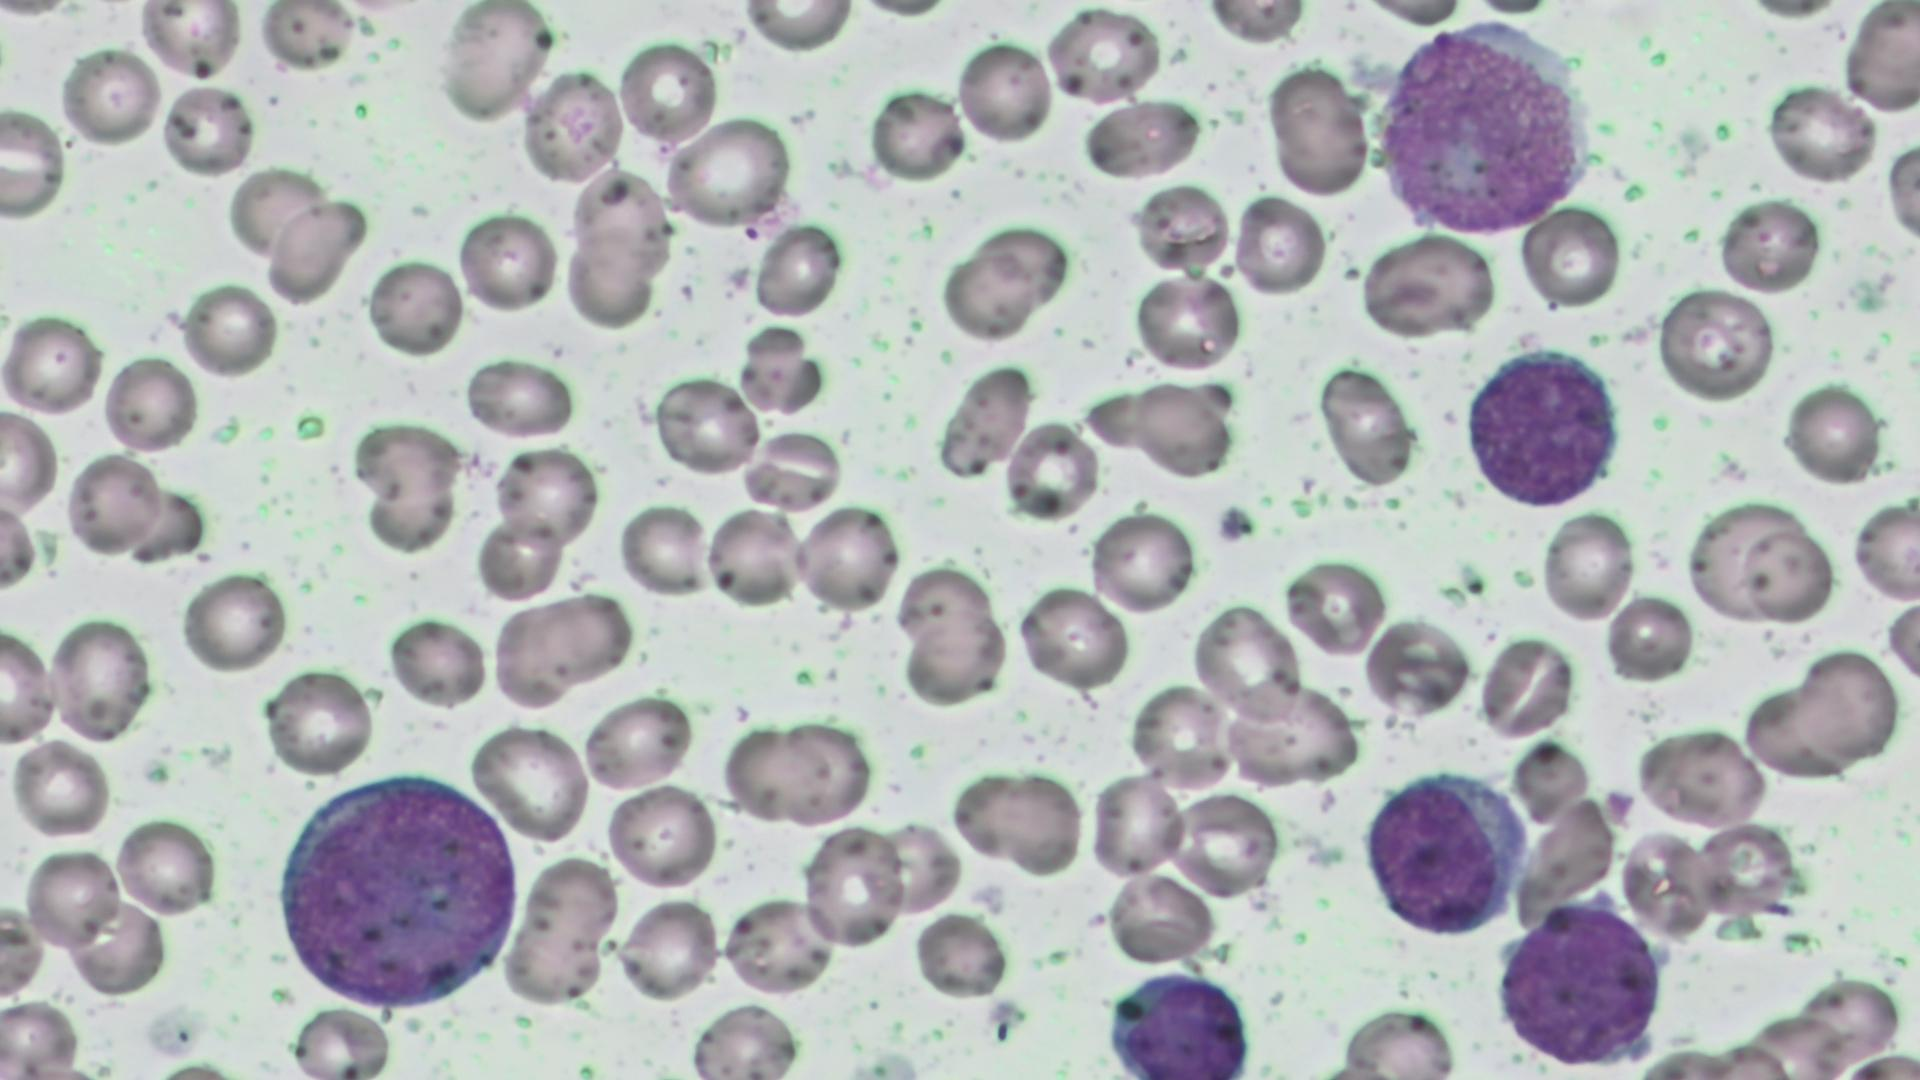Platelets: (1346, 54, 1395, 92), (210, 415, 243, 443)
RBC: (1100, 964, 1255, 1080), (1683, 496, 1815, 624), (469, 715, 592, 848), (733, 715, 874, 829), (1358, 228, 1498, 340), (1222, 680, 1358, 790), (1635, 723, 1770, 832), (665, 113, 790, 227), (47, 612, 153, 746), (436, 0, 551, 123), (1192, 597, 1302, 724), (1658, 287, 1774, 406), (1267, 65, 1370, 198), (800, 825, 903, 952), (604, 778, 719, 891), (498, 593, 637, 687), (520, 852, 622, 975), (521, 66, 624, 189), (1126, 678, 1236, 793), (938, 357, 1036, 483), (1015, 582, 1127, 691), (615, 34, 720, 150), (1317, 364, 1416, 487), (1797, 644, 1900, 761), (1044, 4, 1162, 107), (262, 666, 372, 775), (615, 893, 723, 1004), (793, 502, 899, 615), (1516, 200, 1623, 313), (723, 891, 837, 996), (1764, 80, 1875, 186), (0, 309, 105, 419), (1088, 508, 1196, 615), (1076, 94, 1204, 183), (493, 443, 600, 550), (1782, 378, 1887, 487), (1130, 270, 1240, 375), (651, 372, 762, 475), (1539, 508, 1638, 622), (1284, 553, 1389, 661), (178, 570, 286, 674), (4, 735, 113, 837), (580, 692, 696, 789), (1172, 791, 1279, 895), (264, 196, 363, 307), (1476, 632, 1575, 742), (955, 36, 1054, 146), (1364, 613, 1466, 719), (700, 502, 802, 609), (58, 44, 160, 150), (66, 891, 166, 998), (1106, 869, 1216, 967), (61, 450, 162, 554), (456, 208, 556, 314), (113, 814, 214, 919), (1087, 771, 1184, 880), (1716, 196, 1821, 295), (460, 353, 578, 442), (1130, 177, 1233, 277), (363, 255, 462, 359), (21, 844, 119, 949), (1004, 415, 1098, 524), (945, 764, 1043, 868), (1130, 382, 1236, 479), (100, 352, 202, 451), (1232, 193, 1327, 298), (179, 280, 278, 378), (386, 615, 491, 708), (348, 415, 462, 501), (899, 615, 1006, 705), (866, 84, 965, 181), (1340, 1000, 1460, 1079), (1742, 524, 1834, 626), (562, 231, 658, 328), (615, 498, 709, 597), (688, 998, 802, 1080), (160, 80, 256, 177), (750, 220, 843, 320), (913, 909, 1010, 1000), (1840, 3, 1917, 116), (135, 3, 244, 82), (939, 252, 1036, 340), (1002, 770, 1084, 874), (741, 429, 841, 513), (1602, 592, 1695, 682), (287, 1002, 396, 1077), (977, 220, 1072, 305), (0, 103, 67, 222), (477, 518, 564, 604), (363, 480, 459, 556), (258, 1, 356, 74), (1851, 498, 1917, 604), (0, 628, 58, 746), (0, 406, 57, 516), (738, 0, 856, 51), (1200, 0, 1309, 45), (1880, 129, 1920, 251), (0, 495, 40, 595), (1352, 0, 1466, 29), (851, 1044, 922, 1077)
WBC: (266, 767, 524, 1014), (1361, 18, 1600, 239), (1491, 897, 1668, 1069), (1360, 769, 1534, 938), (1461, 343, 1626, 510), (1101, 971, 1261, 1077)
